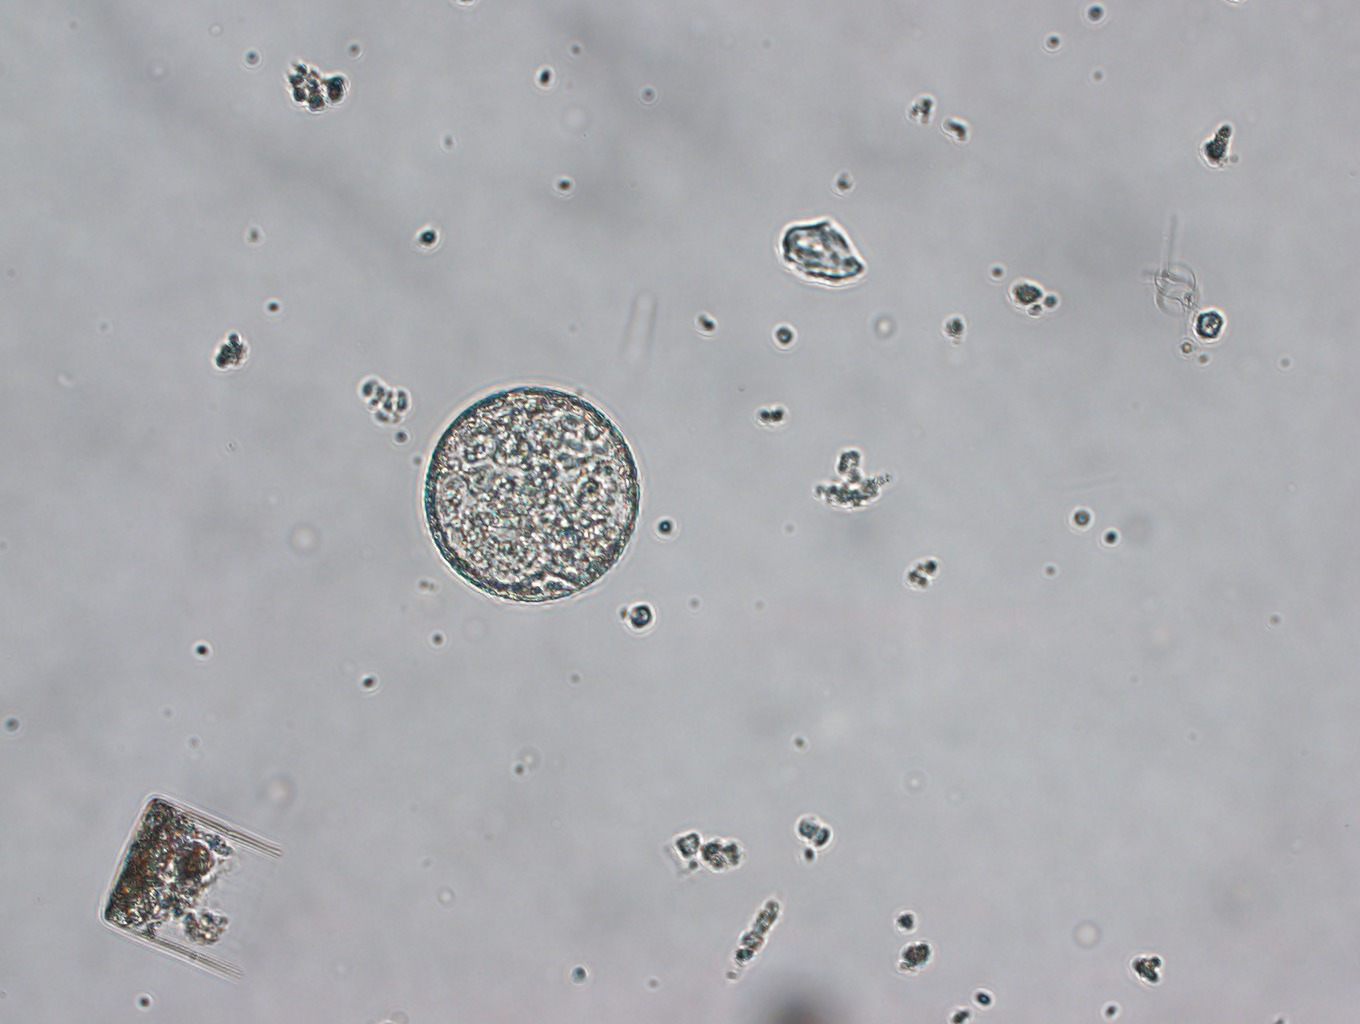coscinodiscus: (414, 379, 646, 608)
